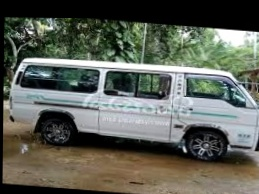van: (3, 50, 259, 168)
